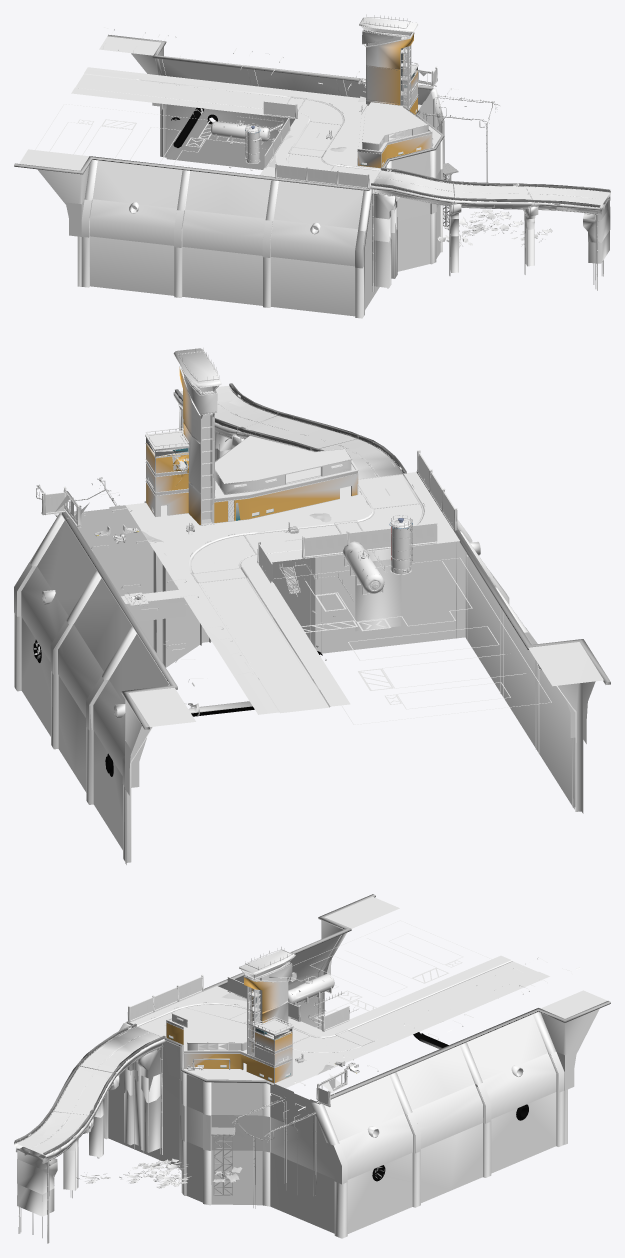
Rendered from cell_83_53.fbx.
The picture shows the model from 3 angles, top to bottom: view 1: azimuth 30°, elevation 25°; view 2: azimuth 150°, elevation 25°; view 3: azimuth 270°, elevation 25°; orthographic projection. The views are drawn at different scales.
Parts seen in each view (by area): view 1: SM_I_RoadFacility_Ground_L_04f.mo, SM_I_RoadFacility_Ground_L_04G.mo, SM_I_RoadFacility_Ground_L_05G_Ruin.mo, SM_I_RoadFacility_Ground_L_05C.mo, SM_H_Building_FutureTech_WatchTower_01a.mo, SM_H_Building_FutureTech_WatchTower_01c.mo, SM_I_RoadFacility_Ground_L_05C_Decal.mo, SM_I_RoadFacility_Ground_L_05G_Ruin_Decal.mo, SM_H_Industrial_Mechanical_MetalSilo_02_Ruin_b.mo, SM_I_RoadFacility_Ground_L_10_RuinF_03.mo, SM_H_Industrial_Mechanical_MetalSilo_03c.mo.003, SM_H_Fence_SoundproofWall_02.mo.032 (+5 smaller); view 2: SM_I_RoadFacility_Ground_L_04f.mo, SM_I_RoadFacility_Ground_L_04G.mo, SM_H_Building_FutureTech_WatchTower_01a.mo, SM_I_RoadFacility_Ground_L_05G_Ruin.mo, SM_I_RoadFacility_Ground_L_05C.mo, SM_H_Building_FutureTech_WatchTower_01c.mo, SM_I_RoadFacility_Ground_L_04I.mo, SM_H_Industrial_Mechanical_MetalSilo_02_Ruin_b.mo, SM_H_Industrial_Mechanical_MetalSilo_03c.mo.003, SM_H_Fence_SoundproofWall_02.mo.056, SM_H_Building_FutureTech_WatchTower_01e.mo, SM_H_Fence_SoundproofWall_02.mo.055 (+1 smaller); view 3: SM_I_RoadFacility_Ground_L_04f.mo, SM_I_RoadFacility_Ground_L_04G.mo, SM_I_RoadFacility_Ground_L_05G_Ruin.mo, SM_H_Building_FutureTech_WatchTower_01a.mo, SM_H_Building_FutureTech_WatchTower_01c.mo, SM_I_RoadFacility_Ground_L_05G_Ruin_Decal.mo, SM_I_RoadFacility_Ground_L_05C.mo, SM_I_RoadFacility_Ground_L_10_RuinF_03.mo, SM_H_Industrial_Mechanical_MetalSilo_02_Ruin_b.mo, SM_H_Building_FutureTech_Platform_03B.mo, SM_I_RoadFacility_Ground_L_05C_Decal.mo, SM_I_RoadFacility_Ground_L_05G_Ruin_Pipe_01.mo.
Boxes of the visible parts, <box> form: SM_I_RoadFacility_Ground_L_04f.mo: <box>14,34,444,318</box>; SM_I_RoadFacility_Ground_L_04G.mo: <box>35,27,458,268</box>; SM_I_RoadFacility_Ground_L_05G_Ruin.mo: <box>371,167,610,287</box>; SM_I_RoadFacility_Ground_L_05C.mo: <box>371,168,610,287</box>; SM_H_Building_FutureTech_WatchTower_01a.mo: <box>357,62,432,168</box>; SM_H_Building_FutureTech_WatchTower_01c.mo: <box>359,17,418,108</box>; SM_I_RoadFacility_Ground_L_05C_Decal.mo: <box>372,171,608,291</box>; SM_I_RoadFacility_Ground_L_05G_Ruin_Decal.mo: <box>372,177,610,287</box>; SM_H_Industrial_Mechanical_MetalSilo_02_Ruin_b.mo: <box>210,120,270,144</box>; SM_I_RoadFacility_Ground_L_10_RuinF_03.mo: <box>423,95,500,182</box>; SM_H_Industrial_Mechanical_MetalSilo_03c.mo.003: <box>245,123,261,163</box>; SM_H_Fence_SoundproofWall_02.mo.032: <box>263,101,297,118</box>; SM_I_RoadFacility_Ground_L_04f.mo: <box>14,471,610,864</box>; SM_I_RoadFacility_Ground_L_04G.mo: <box>14,473,587,795</box>; SM_H_Building_FutureTech_WatchTower_01a.mo: <box>145,428,358,523</box>; SM_I_RoadFacility_Ground_L_05G_Ruin.mo: <box>173,383,406,480</box>; SM_I_RoadFacility_Ground_L_05C.mo: <box>175,383,406,631</box>; SM_H_Building_FutureTech_WatchTower_01c.mo: <box>173,348,221,525</box>; SM_I_RoadFacility_Ground_L_04I.mo: <box>34,590,185,658</box>; SM_H_Industrial_Mechanical_MetalSilo_02_Ruin_b.mo: <box>343,541,384,594</box>; SM_H_Industrial_Mechanical_MetalSilo_03c.mo.003: <box>389,515,412,574</box>; SM_H_Fence_SoundproofWall_02.mo.056: <box>301,533,347,558</box>; SM_H_Building_FutureTech_WatchTower_01e.mo: <box>202,415,210,519</box>; SM_H_Fence_SoundproofWall_02.mo.055: <box>346,528,390,551</box>; SM_I_RoadFacility_Ground_L_04f.mo: <box>104,894,610,1238</box>; SM_I_RoadFacility_Ground_L_04G.mo: <box>117,920,580,1184</box>; SM_I_RoadFacility_Ground_L_05G_Ruin.mo: <box>14,1023,165,1216</box>; SM_H_Building_FutureTech_WatchTower_01a.mo: <box>166,1007,293,1082</box>; SM_H_Building_FutureTech_WatchTower_01c.mo: <box>239,949,295,1056</box>; SM_I_RoadFacility_Ground_L_05G_Ruin_Decal.mo: <box>17,1032,162,1214</box>; SM_I_RoadFacility_Ground_L_05C.mo: <box>14,1024,160,1210</box>; SM_I_RoadFacility_Ground_L_10_RuinF_03.mo: <box>232,1097,316,1208</box>; SM_H_Industrial_Mechanical_MetalSilo_02_Ruin_b.mo: <box>288,974,334,1005</box>; SM_H_Building_FutureTech_Platform_03B.mo: <box>211,1127,235,1195</box>; SM_I_RoadFacility_Ground_L_05C_Decal.mo: <box>18,1067,162,1243</box>; SM_I_RoadFacility_Ground_L_05G_Ruin_Pipe_01.mo: <box>47,1044,162,1214</box>.
Size of the model in its own units: 165 by 76.47 by 177.
